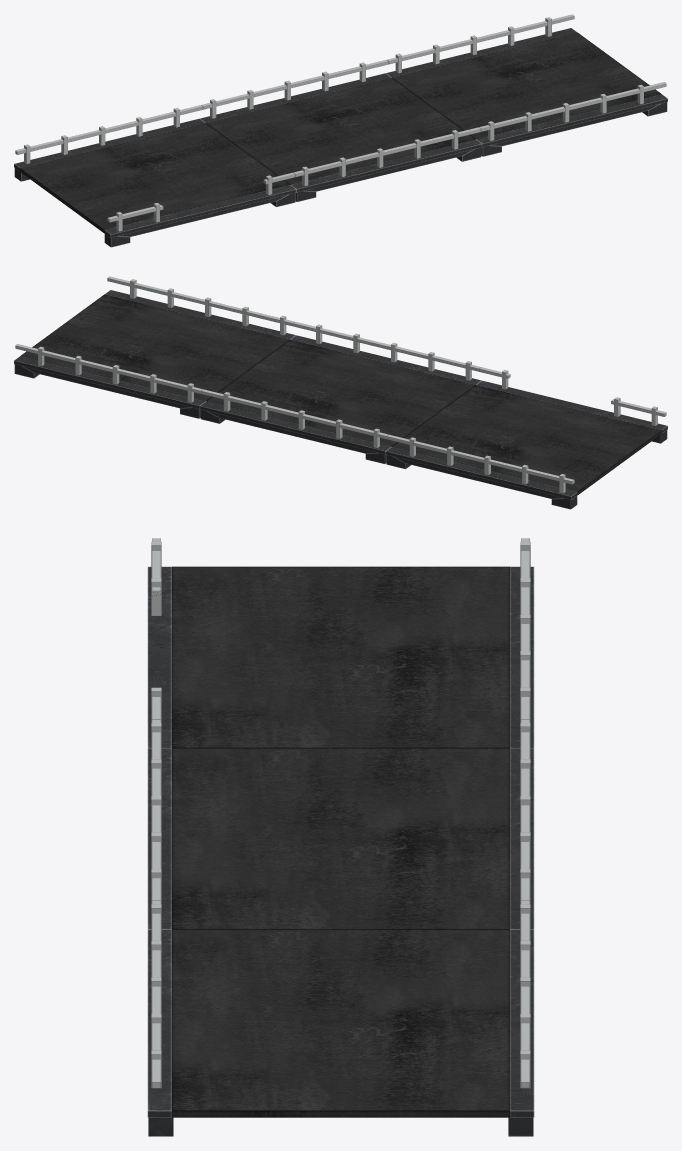
File: carretera_cortadita.fbx
The picture shows the model from 3 angles, top to bottom: view 1: azimuth 30°, elevation 25°; view 2: azimuth 150°, elevation 25°; view 3: azimuth 270°, elevation 25°; orthographic projection. The views are drawn at different scales.
Visible parts, largest first — view 1: Plane.011; view 2: Plane.011; view 3: Plane.011.
Boxes of the visible parts, <box> form: Plane.011: <box>14,14,667,247</box>; Plane.011: <box>14,276,667,509</box>; Plane.011: <box>147,538,534,1136</box>.
Size of the model in its own units: 10082 by 523 by 3028.
